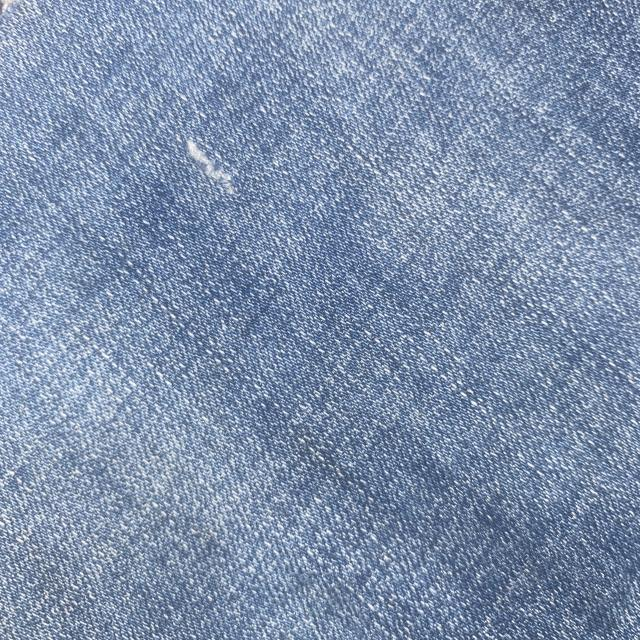Knot: (186, 139, 235, 194)
